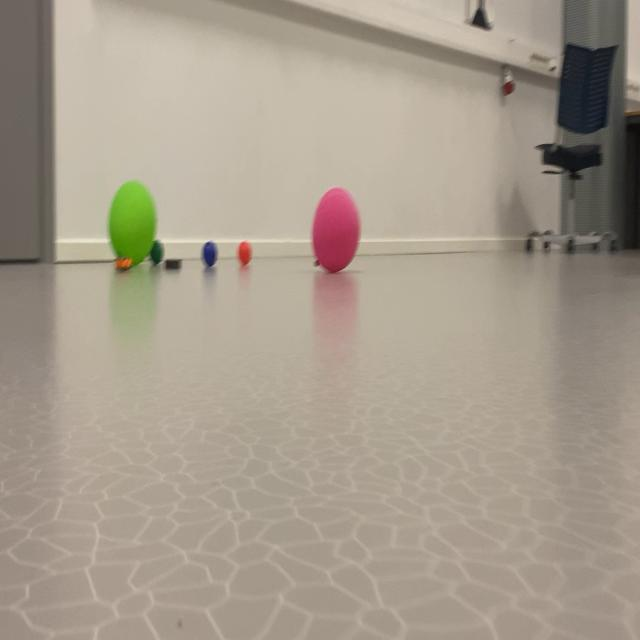7: (229, 229, 258, 297)
green ball: (201, 234, 239, 310)
red ball: (150, 232, 169, 270)
